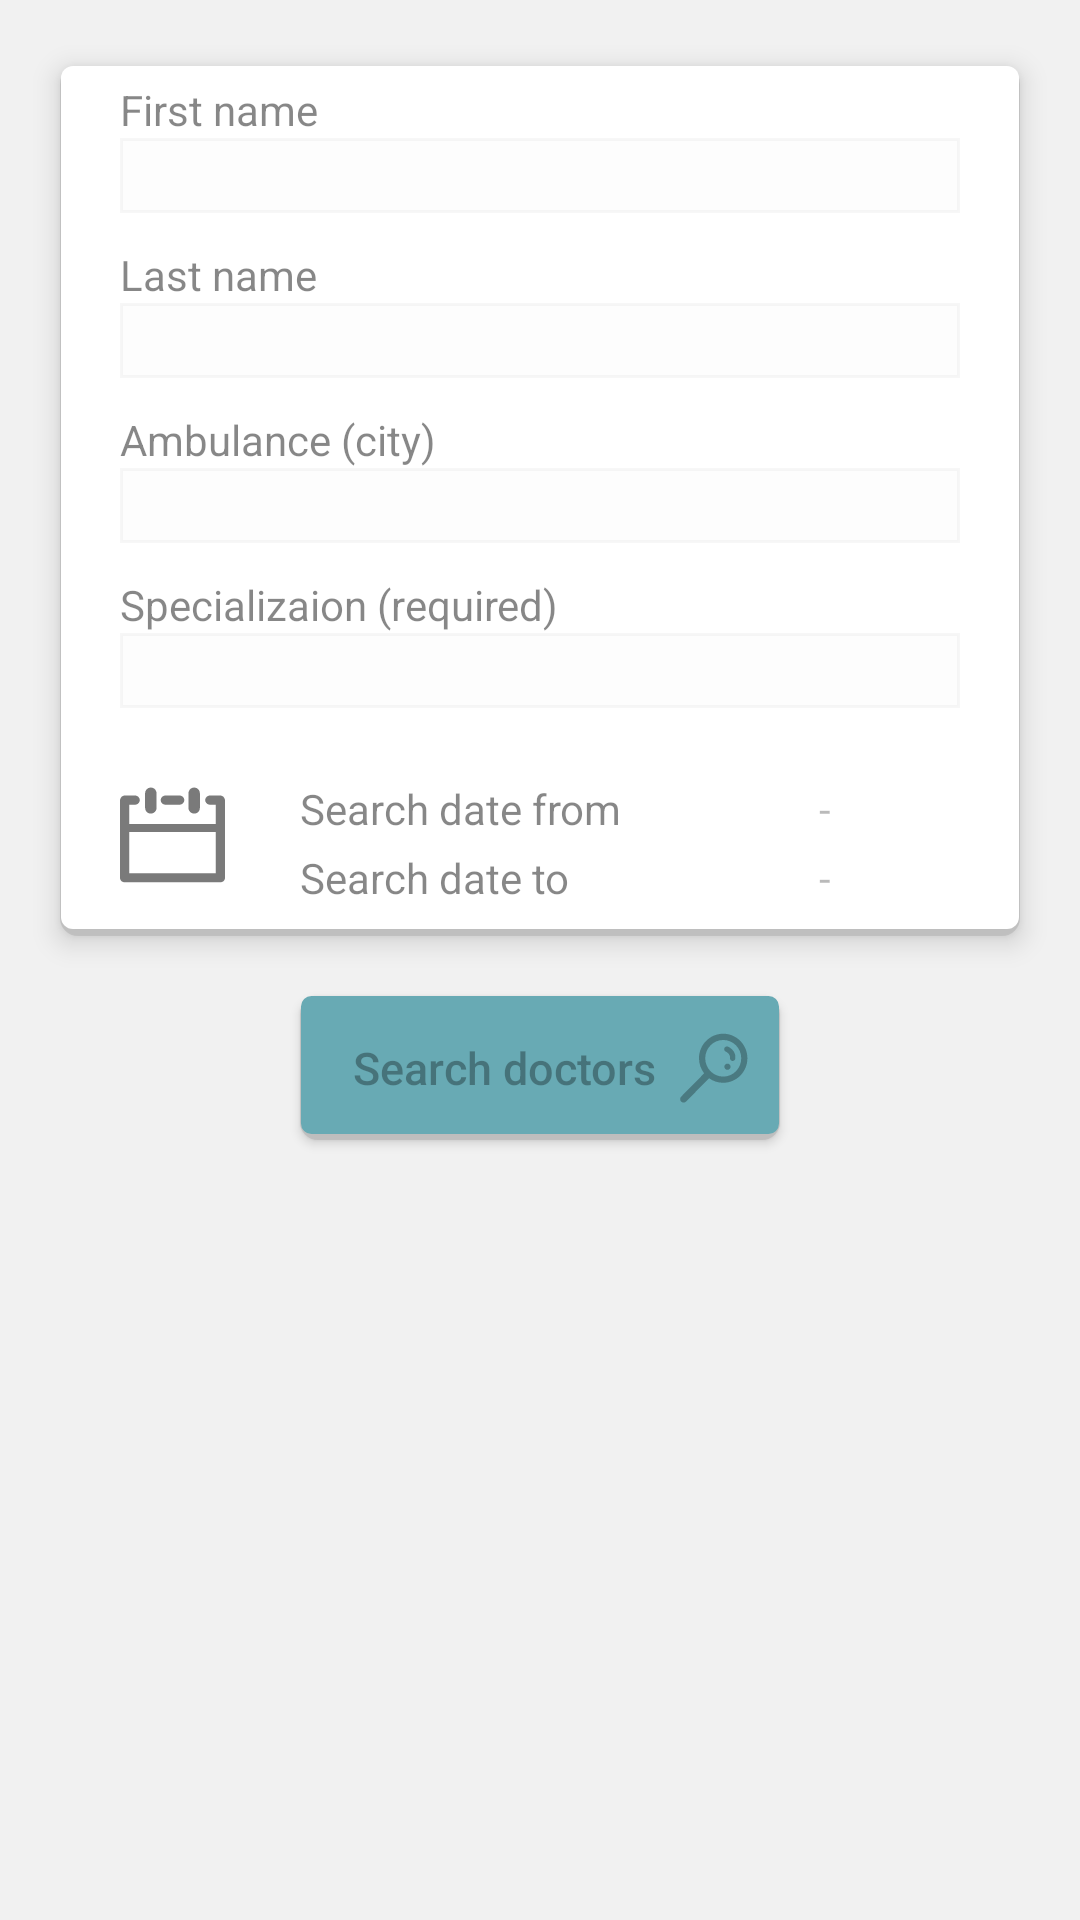

Named icons in this screenshot (1080px x 1920px) and their bounding boxes, bbox(x1, y1, x2, y2):
calendar: bbox(120, 787, 225, 883)
